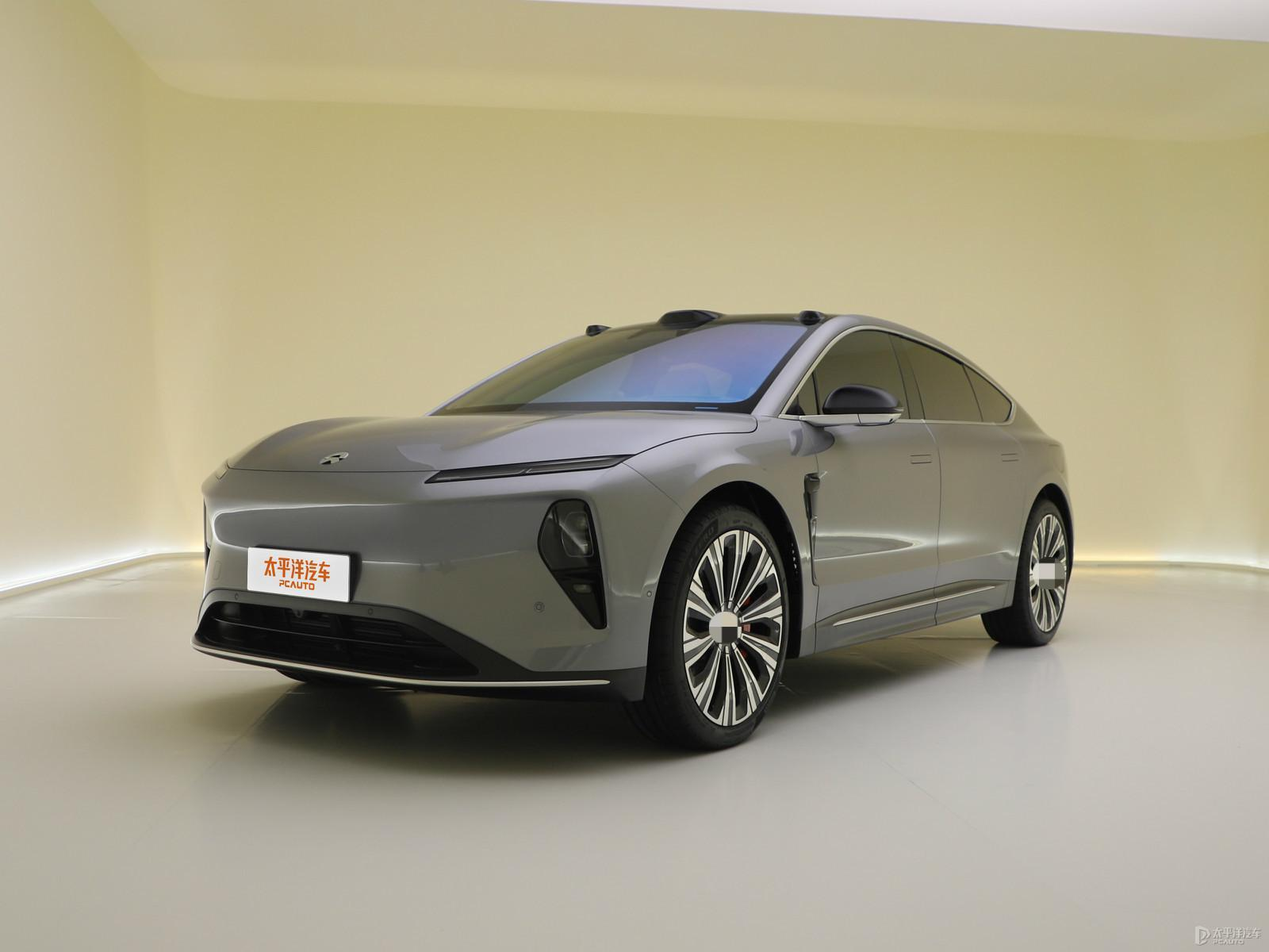NIO: (320, 450, 349, 466)
